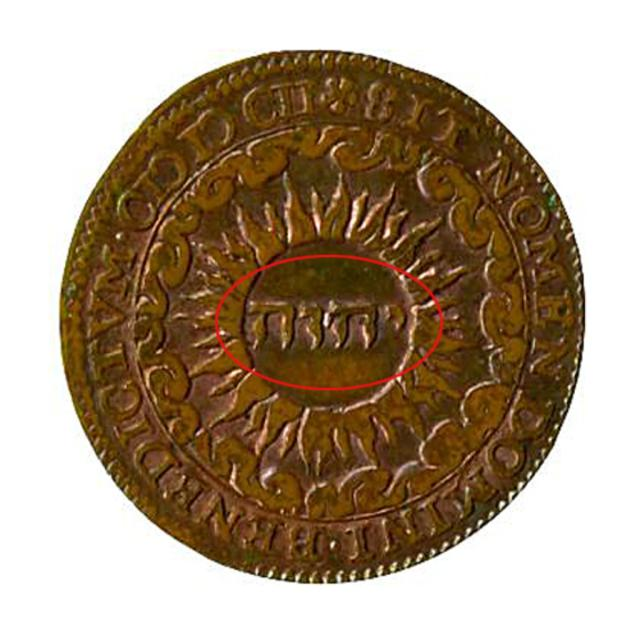Coin: (59, 47, 590, 582)
